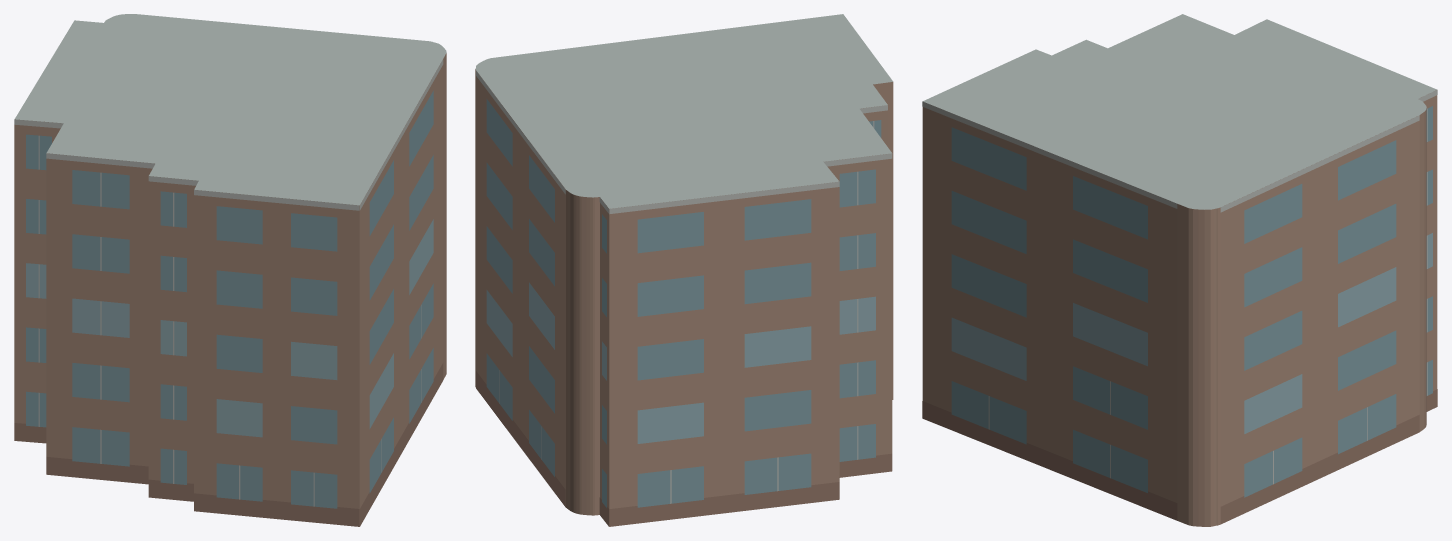
The model's file is survey-upis-32992101.glb.
The picture shows the model from 3 angles, left to right: view 1: azimuth 30°, elevation 25°; view 2: azimuth 150°, elevation 25°; view 3: azimuth 270°, elevation 25°; orthographic projection.
Parts seen in each view (by area): view 1: survey-upis-32992101.tmp; view 2: survey-upis-32992101.tmp; view 3: survey-upis-32992101.tmp.
Part boxes in pixels (x1,y1,x2,y2): survey-upis-32992101.tmp: (14, 14, 446, 526); survey-upis-32992101.tmp: (475, 14, 893, 526); survey-upis-32992101.tmp: (922, 14, 1437, 526).
Bounding box in the file's own units: 19.2 × 14.5 × 21.34.
